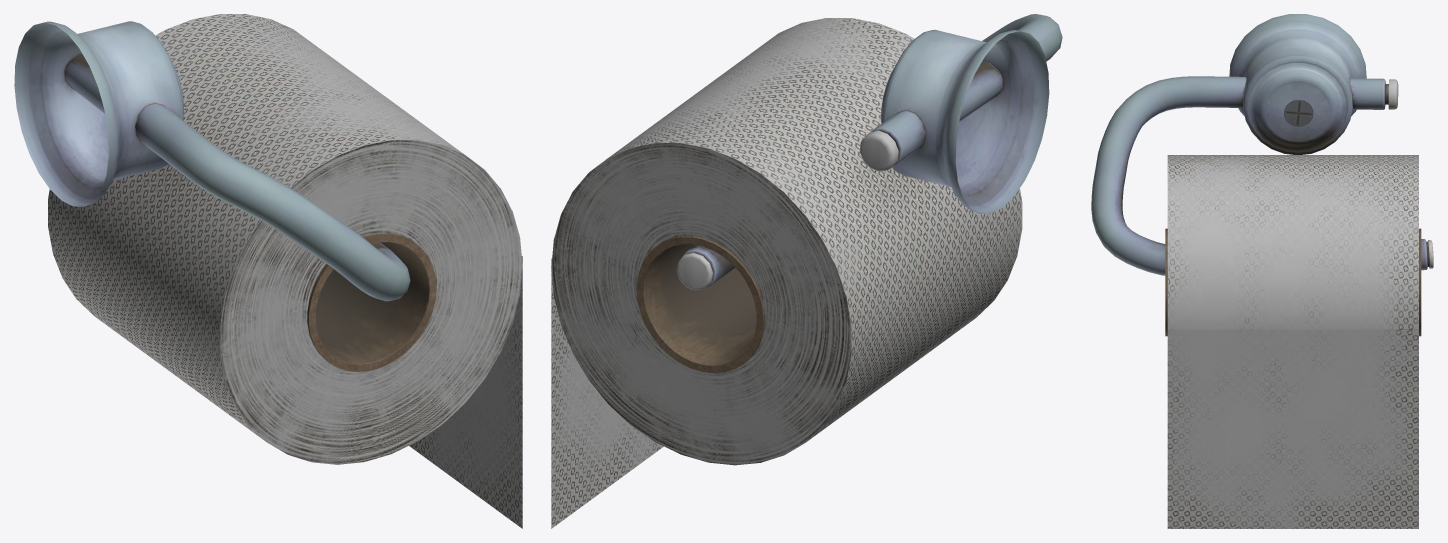
Rendered from tp_holder.glb.
3 renders of one model, left to right at view 1: azimuth 30°, elevation 25°; view 2: azimuth 150°, elevation 25°; view 3: azimuth 270°, elevation 25°, orthographic. The views are drawn at different scales.
Parts seen in each view (by area): view 1: Sweep__0; view 2: Sweep__0; view 3: Sweep__0.
Part boxes in pixels (left/top/right/bottom): Sweep__0: left=14, top=14, right=522, bottom=528; Sweep__0: left=551, top=14, right=1062, bottom=528; Sweep__0: left=1091, top=14, right=1433, bottom=528.
Bounding box in the file's own units: 241 × 324 × 263.
1 material, 1 textured.
